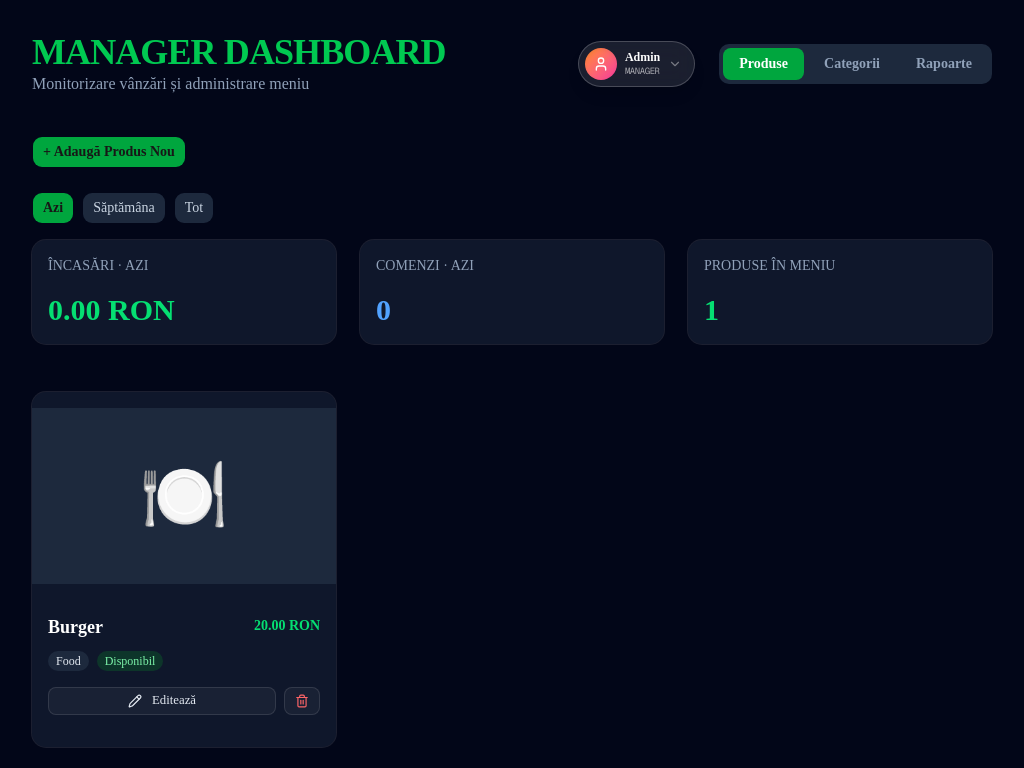
Scenario: Manager Dashboard › fills the product form from the AI content generator
Expected: the heading "Burger" is shown, top-left (48, 616), bottom-right (103, 638)
Click the button "+ Adaugă Produs Nou". click: (109, 152)
box: top-left (32, 136), bottom-right (186, 168)
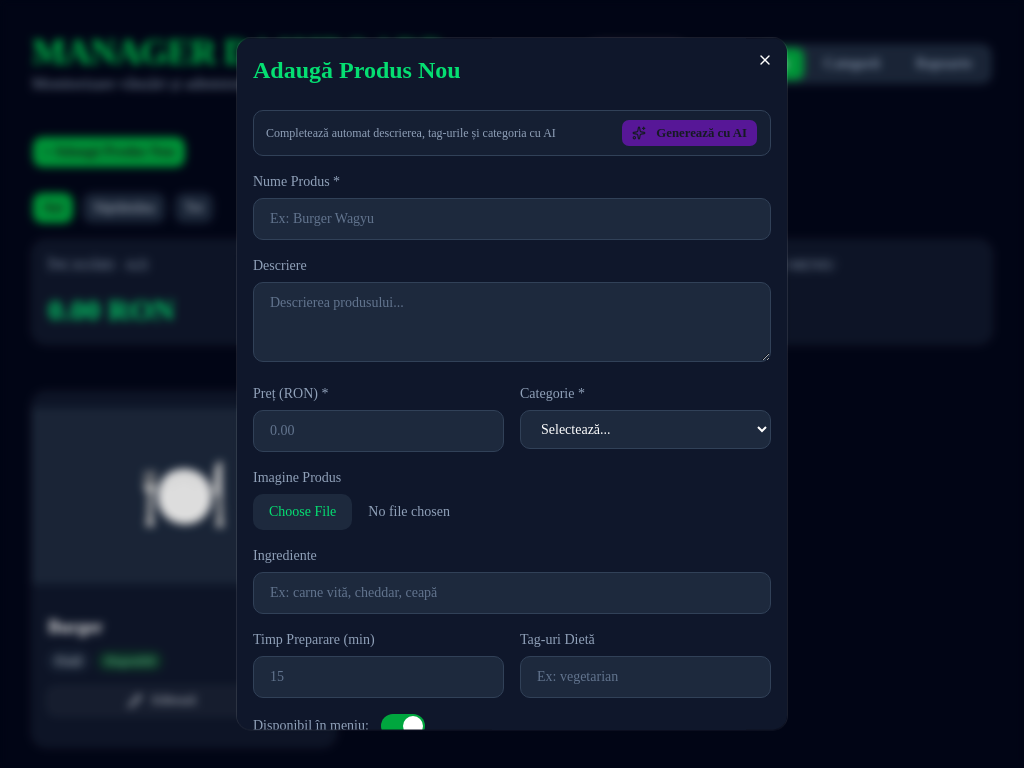
Numele e necesar pentru a activa butonul AI.
Type "Burger Wagyu" into the field with placeholder "Ex: Burger Wagyu". click: (512, 219)
box: top-left (253, 198), bottom-right (771, 240)
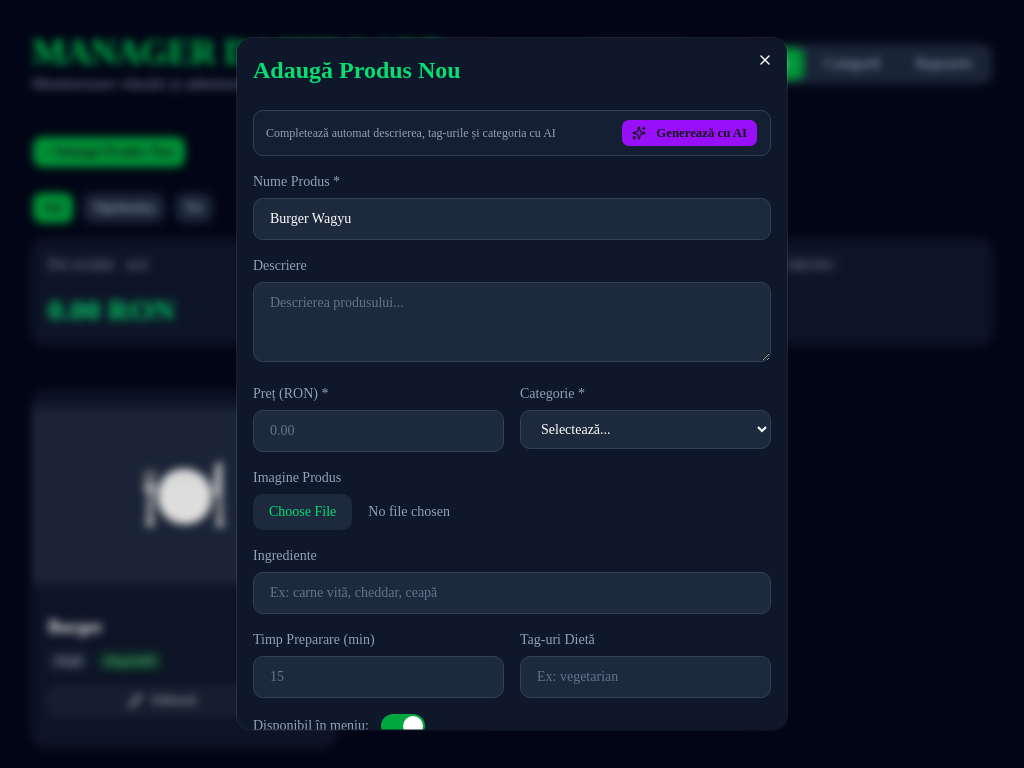
Click the button "Generează cu AI". click: (690, 133)
box: top-left (621, 119), bottom-right (758, 147)
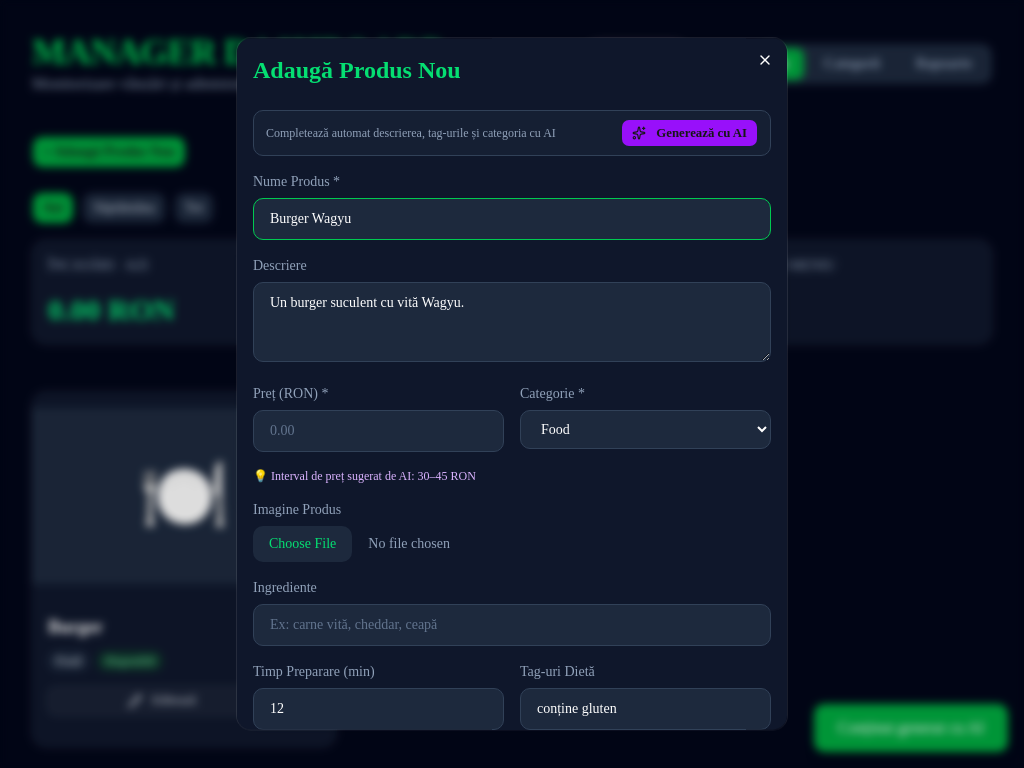
Expected: the text box showing "Un burger suculent cu vită Wagyu." is shown, top-left (253, 282), bottom-right (771, 362)
Expected: the field showing "conține gluten" below "Tag-uri Dietă" is shown, top-left (520, 688), bottom-right (771, 730)
Expected: the text "💡 Interval de preț sugerat de AI: 30–45 RON" is shown, top-left (253, 469), bottom-right (476, 483)
